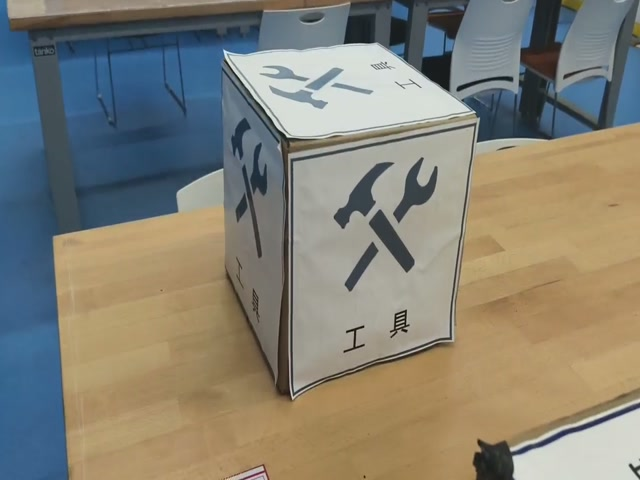Cube_tool: (225, 44, 475, 144)
